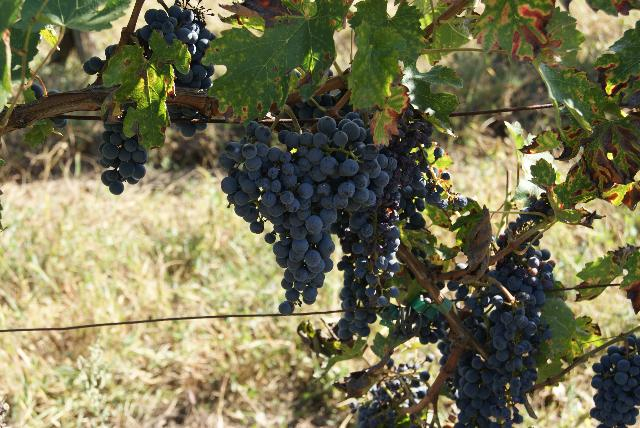grapes: (222, 116, 389, 314), (338, 110, 448, 340), (488, 252, 552, 422), (136, 5, 214, 90), (219, 121, 271, 216), (590, 336, 640, 428)
